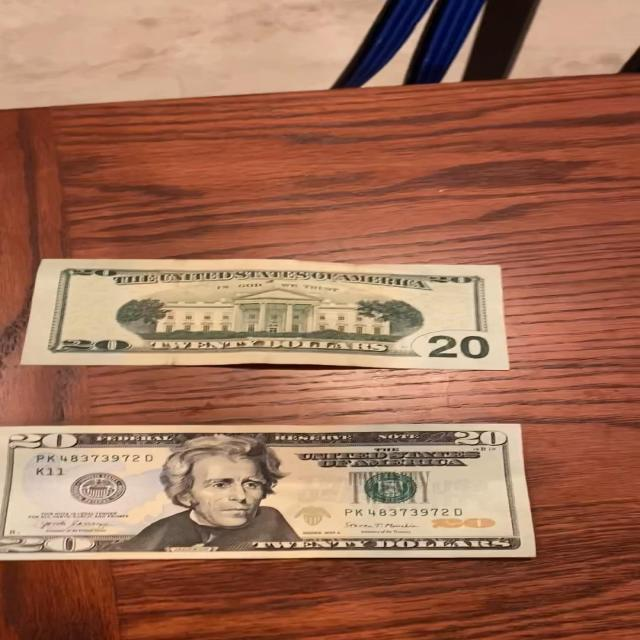20-Back: (16, 253, 517, 374)
20-Front: (0, 418, 543, 560)
